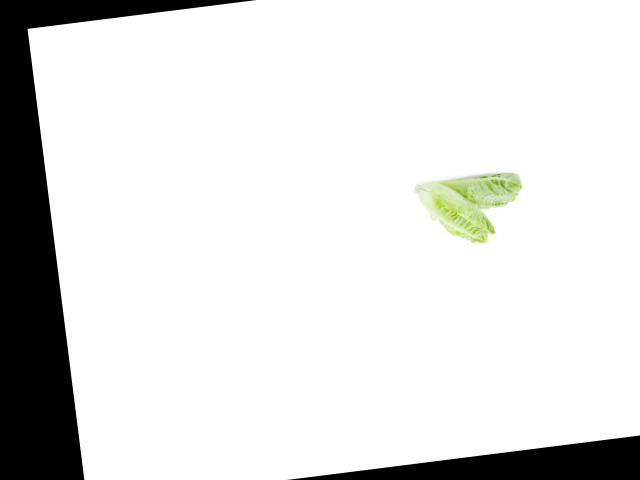lettuce: (434, 162, 531, 216)
